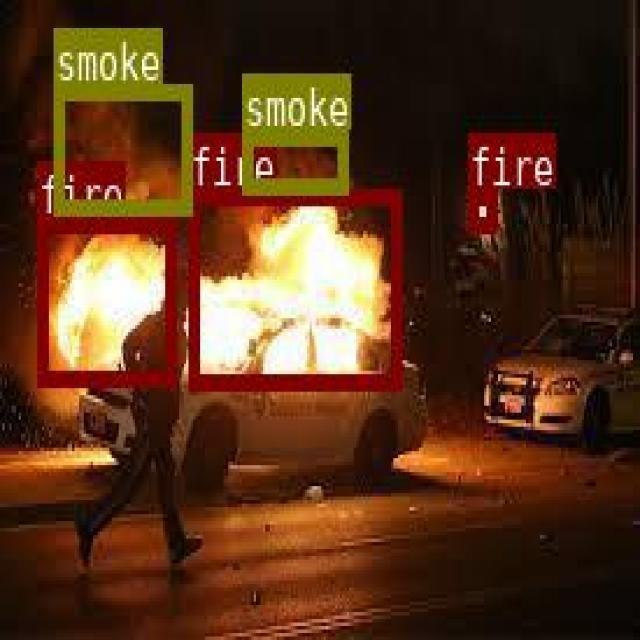fire: (187, 188, 399, 386), (37, 215, 174, 383), (466, 188, 494, 228)
smoke: (52, 82, 189, 212), (240, 129, 345, 190)
